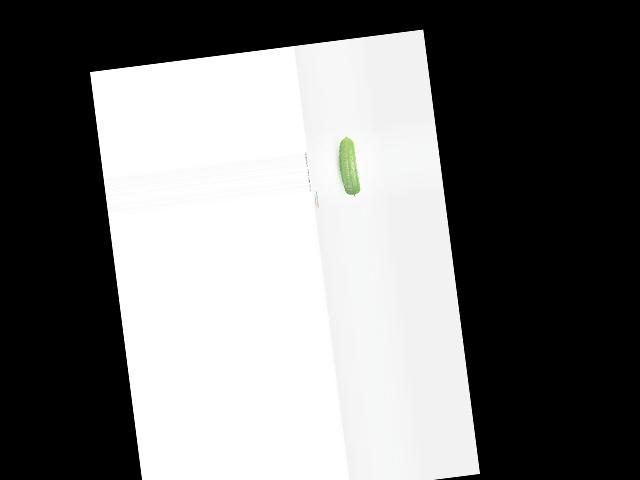cucumber: (336, 134, 361, 198)
